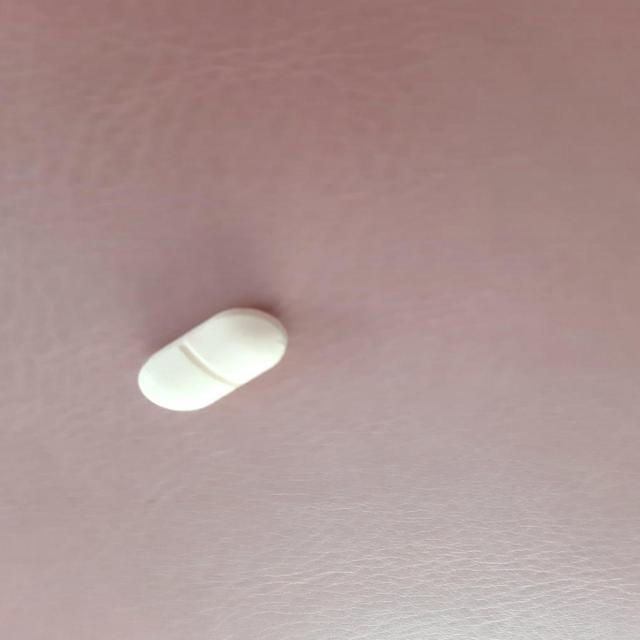pill: (132, 302, 288, 418)
